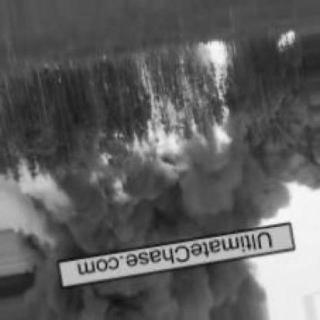Fire: (279, 27, 299, 49)
